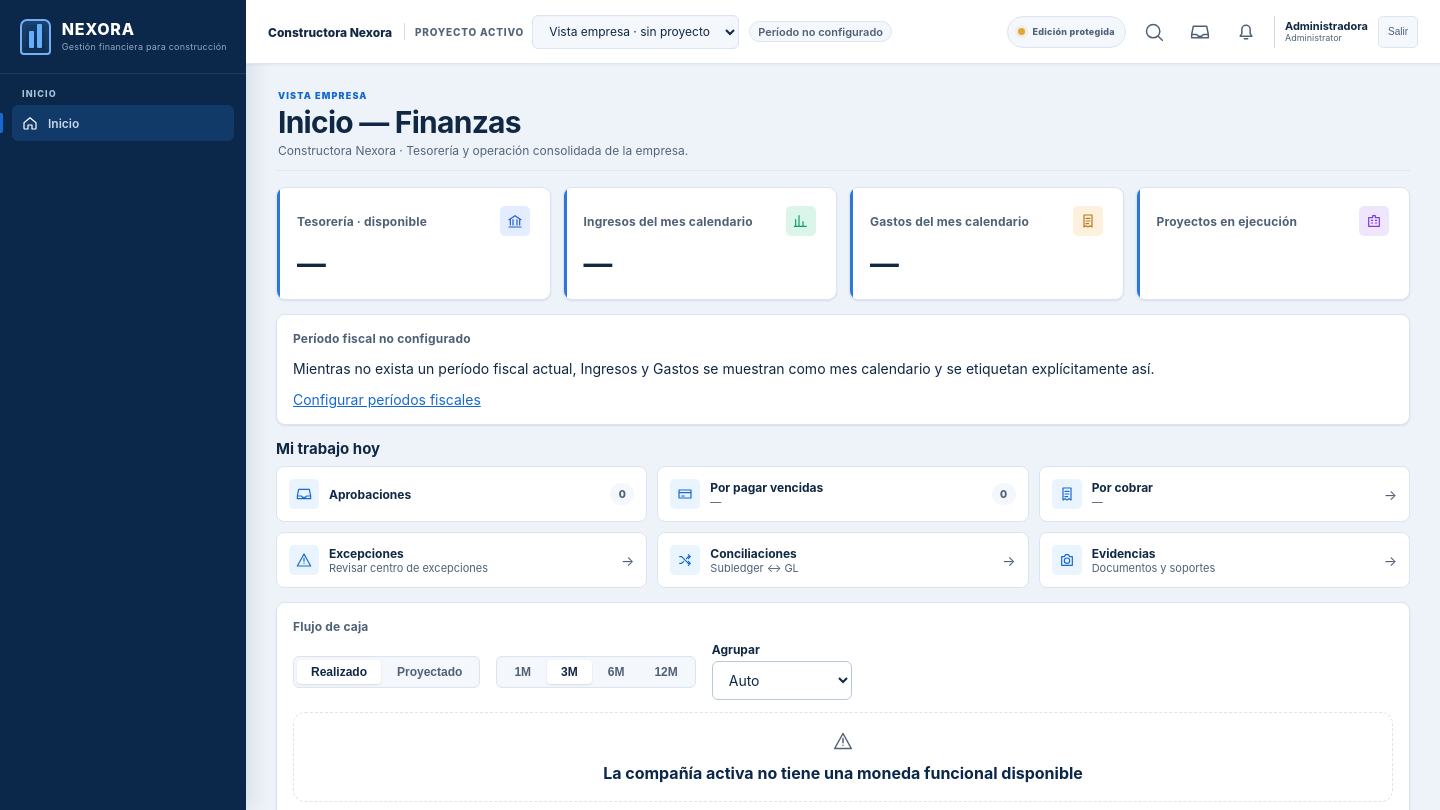
Test: Global search in the command palette › shows a real /api/search result and navigates to it on click
The width and height of the screenshot is (1440, 810).
Check: the heading "Inicio — Finanzas" is shown, box [278, 104, 521, 140]
Step 1. Click the button named "búsqueda global" → click(1154, 32), box [1136, 14, 1172, 50]
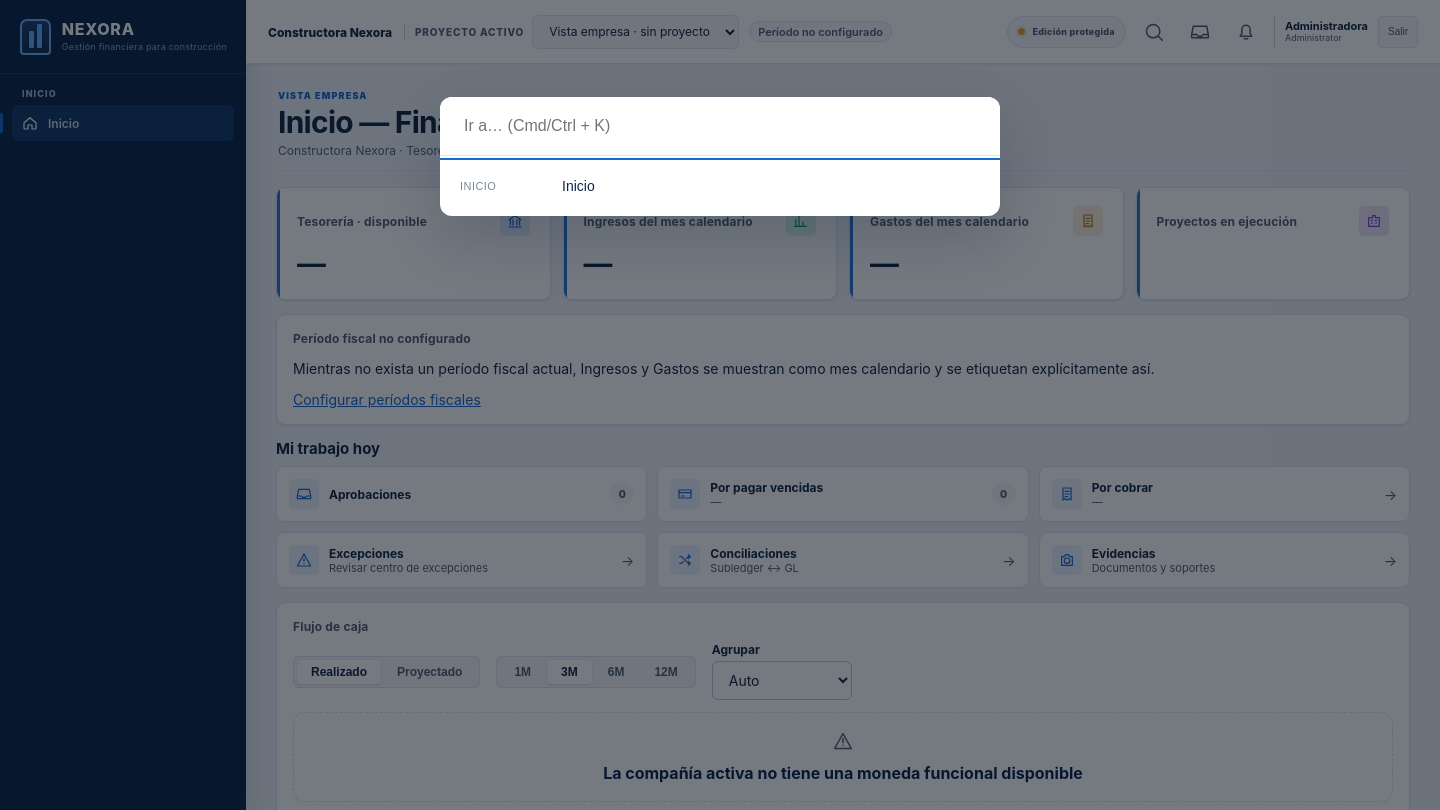
Step 2. Type "Reforma" into the field with placeholder "Ir a… (Cmd/Ctrl + K)" → (720, 127), box [440, 97, 1000, 156]
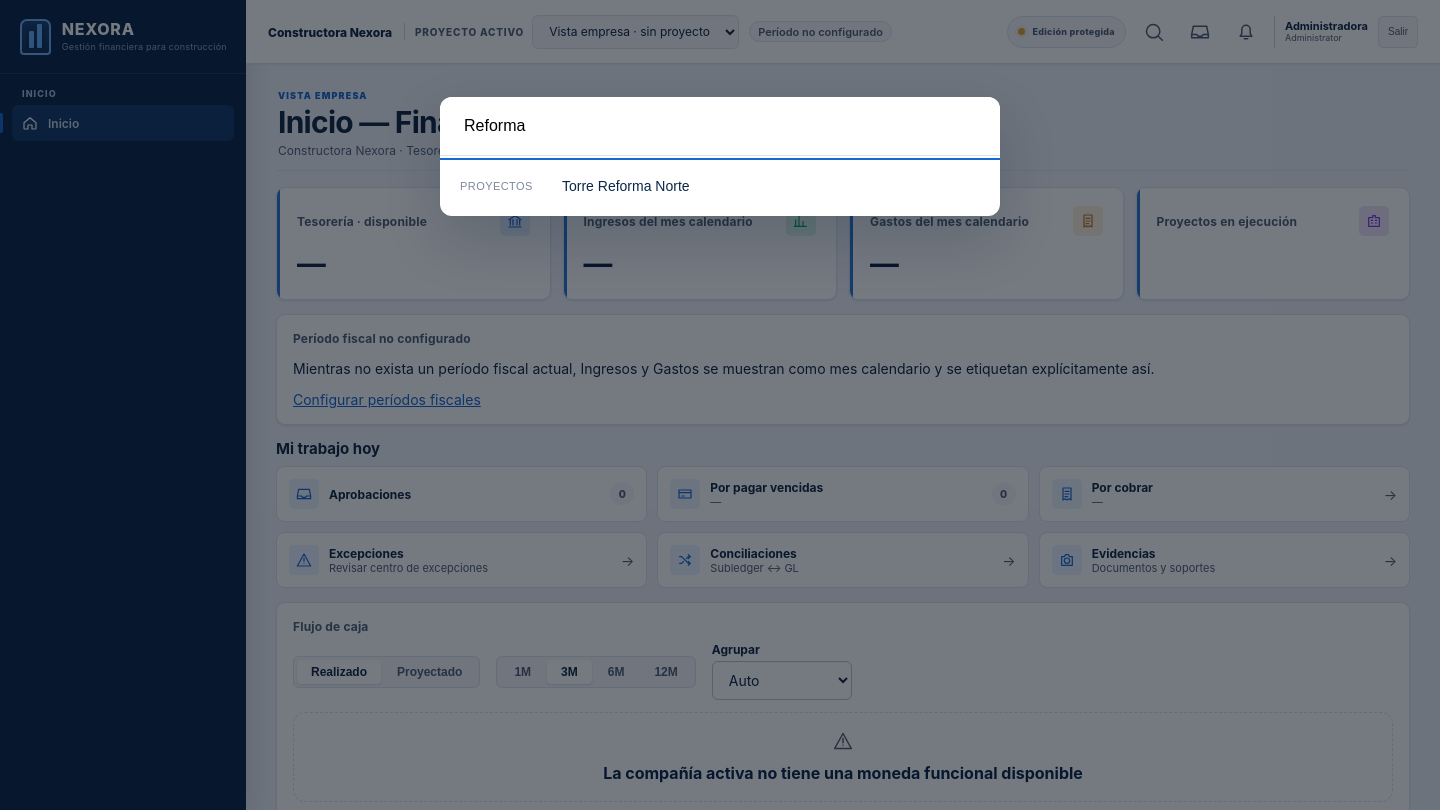
Step 3. Click the option "Proyectos Torre Reforma Norte" → click(496, 186), box [448, 164, 992, 208]
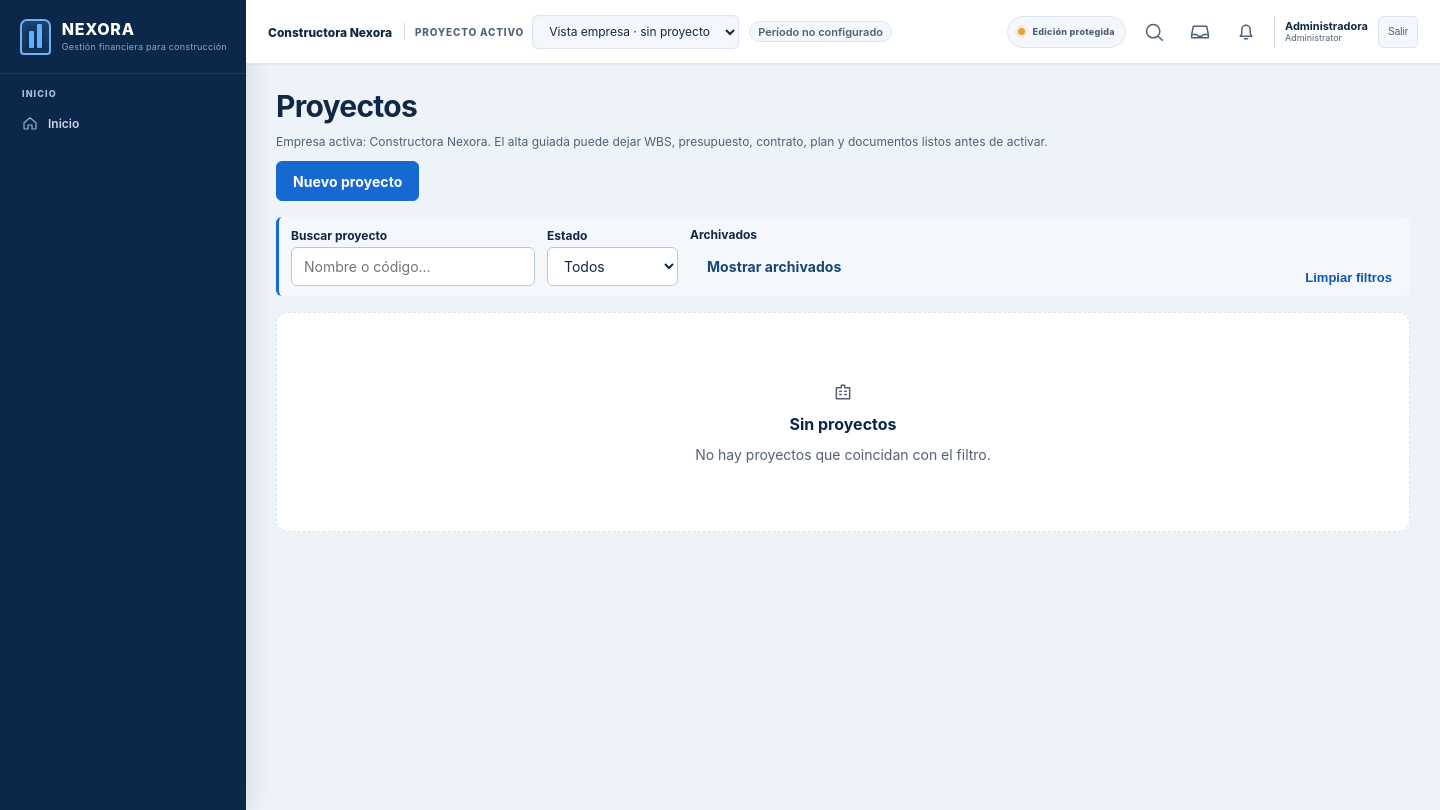
Check: the heading "Proyectos" is shown, box [276, 88, 417, 124]
